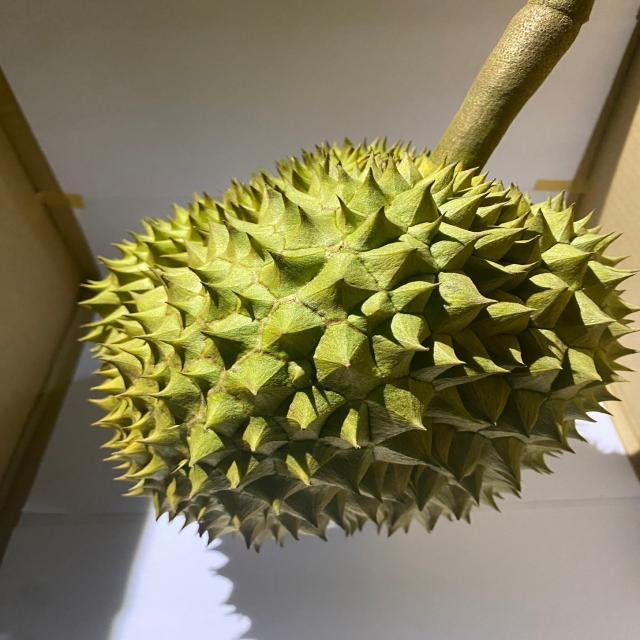immature: (75, 134, 640, 554)
